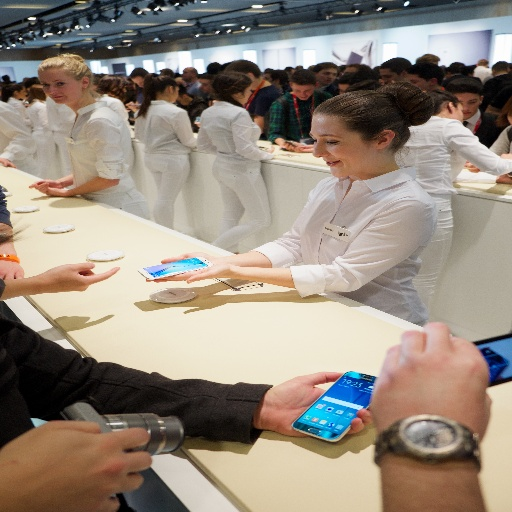hand: (367, 320, 492, 443), (15, 417, 167, 502), (253, 369, 374, 438), (37, 263, 119, 292), (145, 261, 233, 282), (161, 250, 218, 263), (26, 179, 62, 193), (0, 258, 22, 280), (45, 184, 72, 197), (279, 139, 299, 150), (462, 160, 480, 172), (0, 156, 17, 168), (296, 143, 313, 152), (124, 100, 138, 110), (499, 152, 511, 159), (265, 144, 275, 152), (193, 118, 200, 127), (20, 100, 29, 106)
